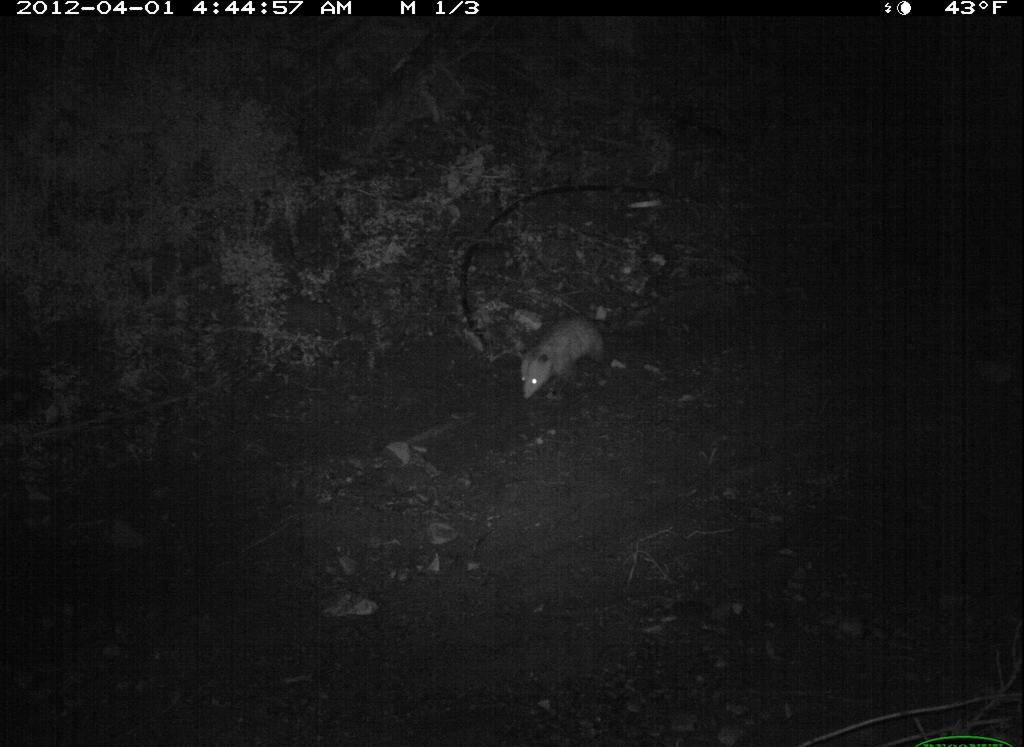opossum: (514, 305, 646, 397)
